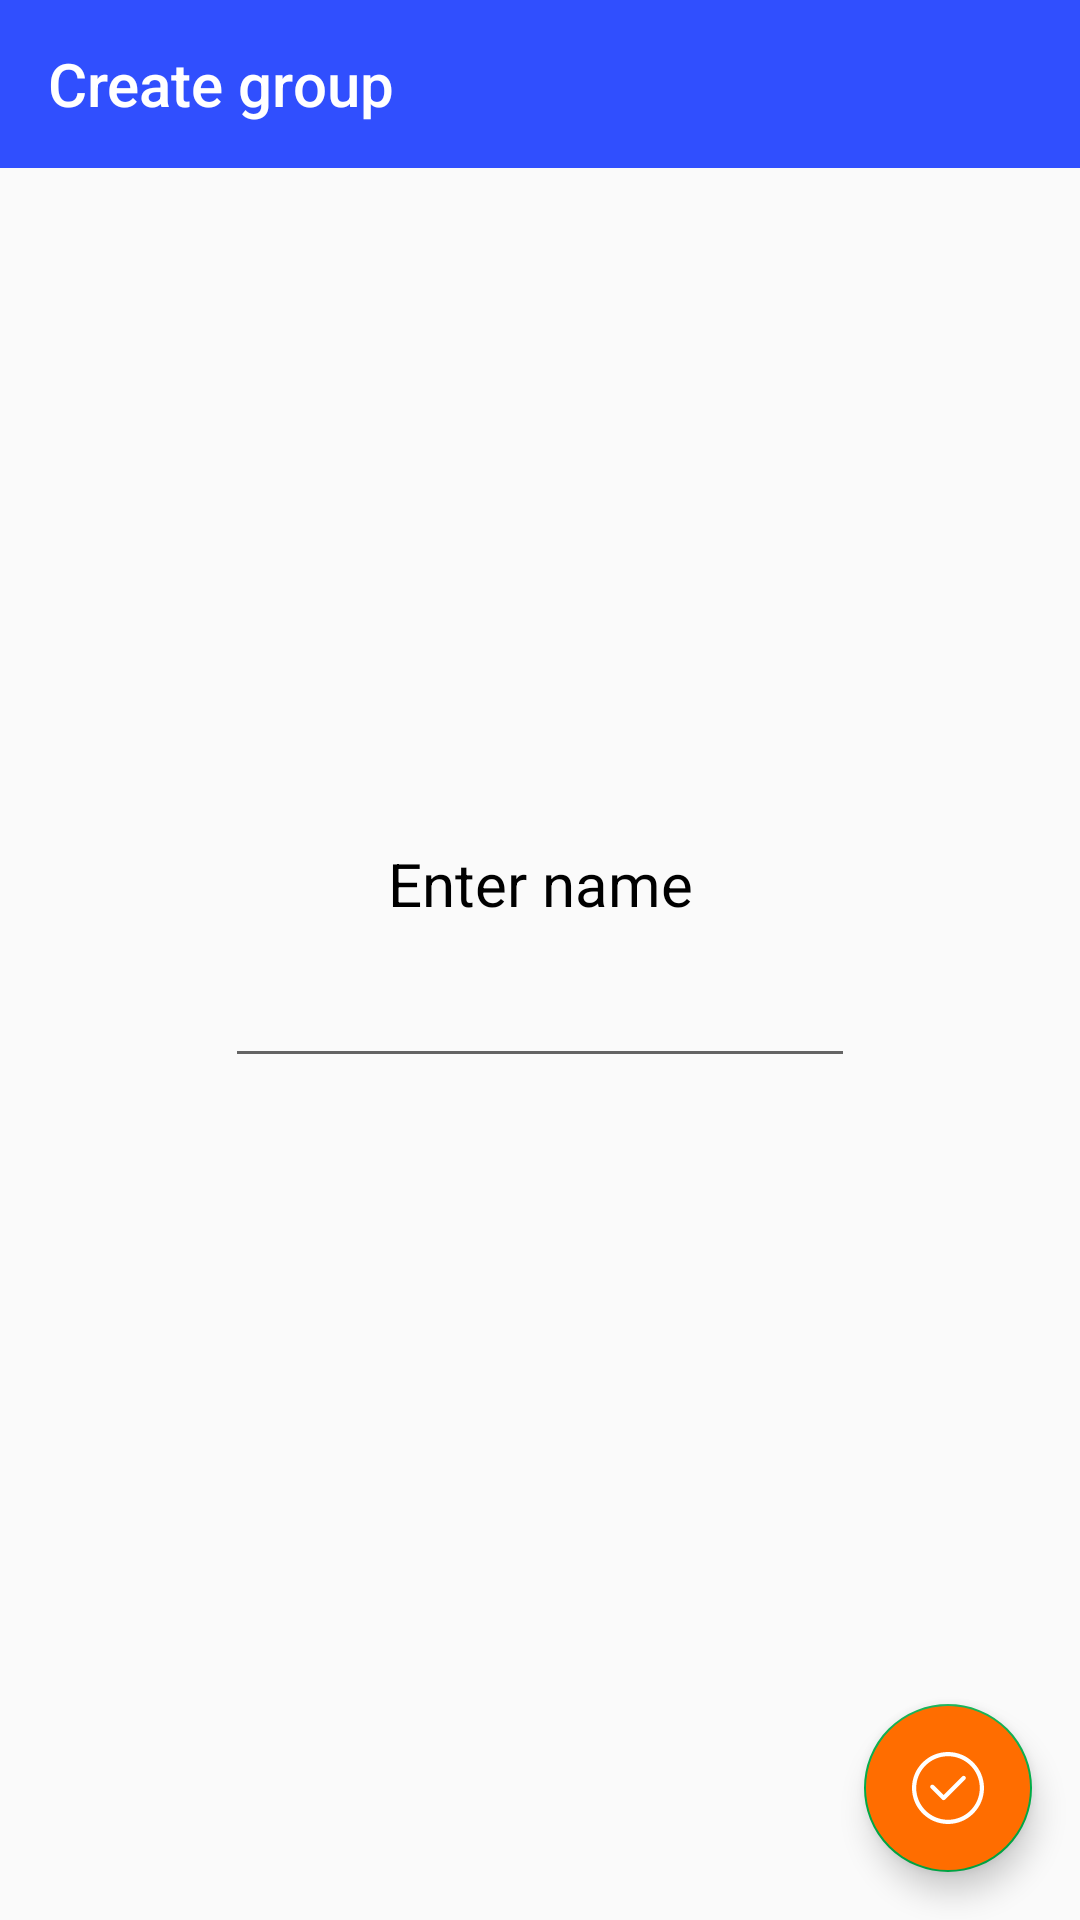

Named icons in this screenshot (1080px×1920px) and their centers, (x=x, y=y):
verified: (x=948, y=1788)
